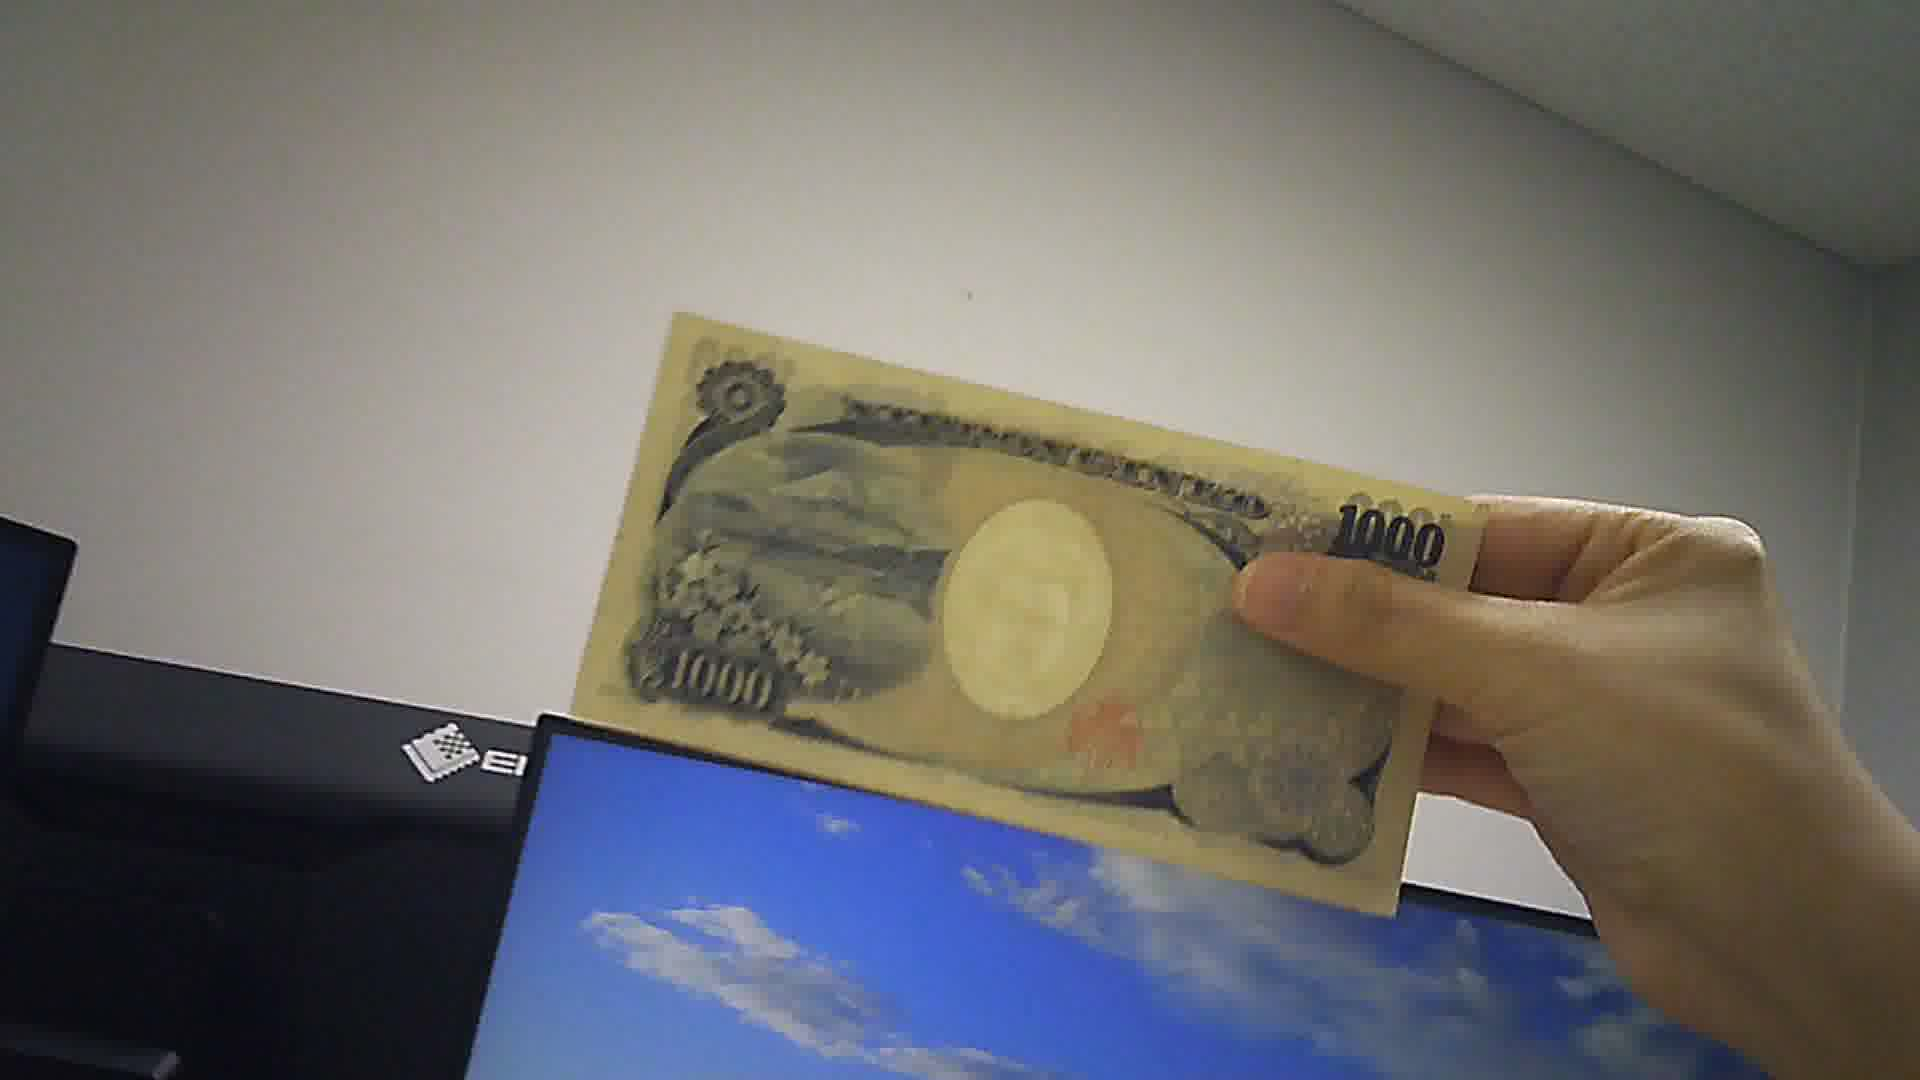1,000 Yen: (546, 287, 1472, 920)
